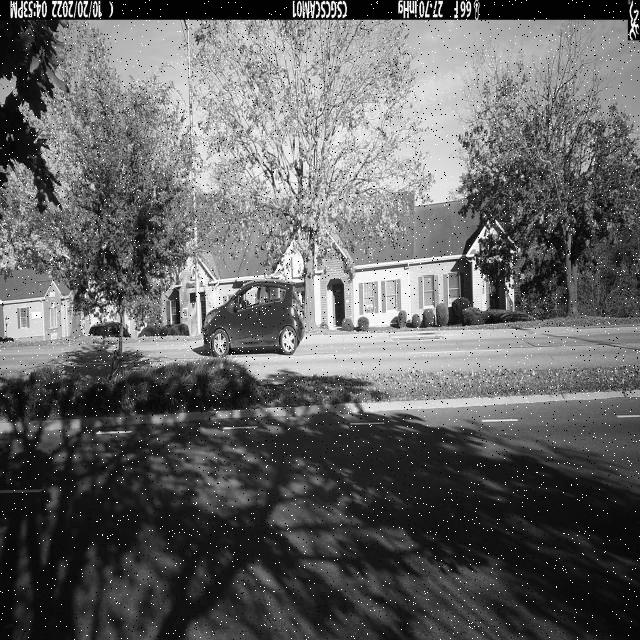Box Truck: (203, 279, 304, 358)
